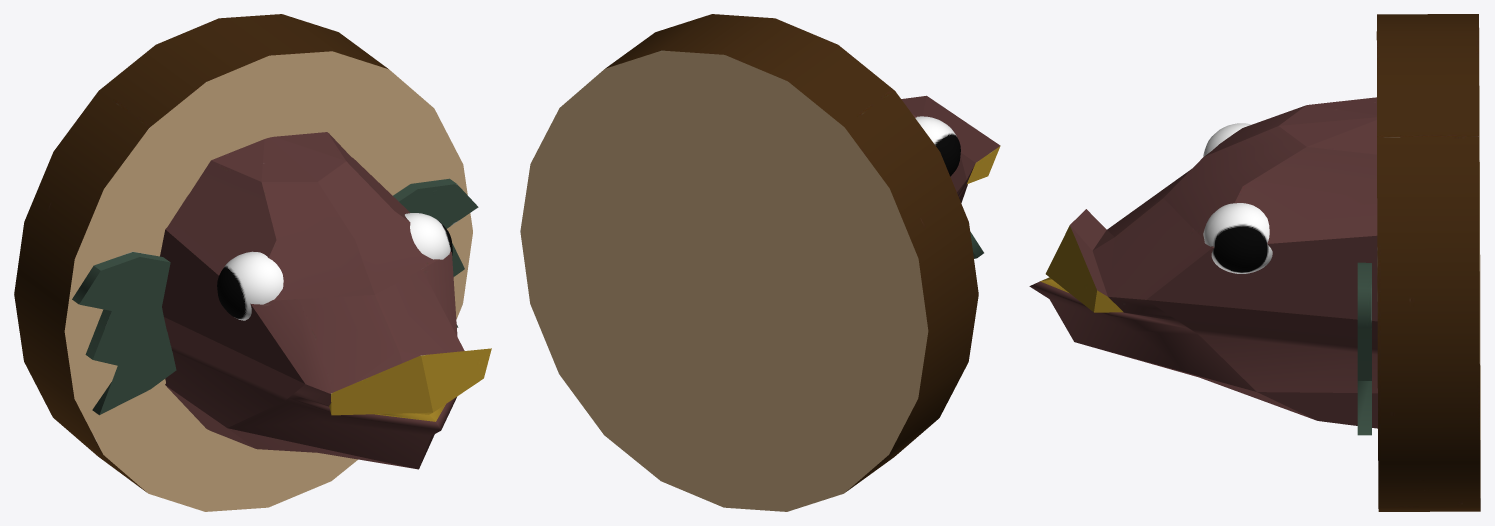
Rendered from wallArtCatfish.fbx.
The picture shows the model from 3 angles, left to right: view 1: azimuth 30°, elevation 25°; view 2: azimuth 150°, elevation 25°; view 3: azimuth 270°, elevation 25°; orthographic projection.
Parts seen in each view (by area): view 1: pCylinder2; view 2: pCylinder2; view 3: pCylinder2.
Boxes of the visible parts, box(x1,y1,x2,y2) form: pCylinder2: box(14, 14, 491, 511); pCylinder2: box(520, 14, 1000, 511); pCylinder2: box(1029, 14, 1480, 511).
Size of the model in its own units: 2.14 by 2.27 by 2.03.
Materials: 1 (1 with a texture image).
